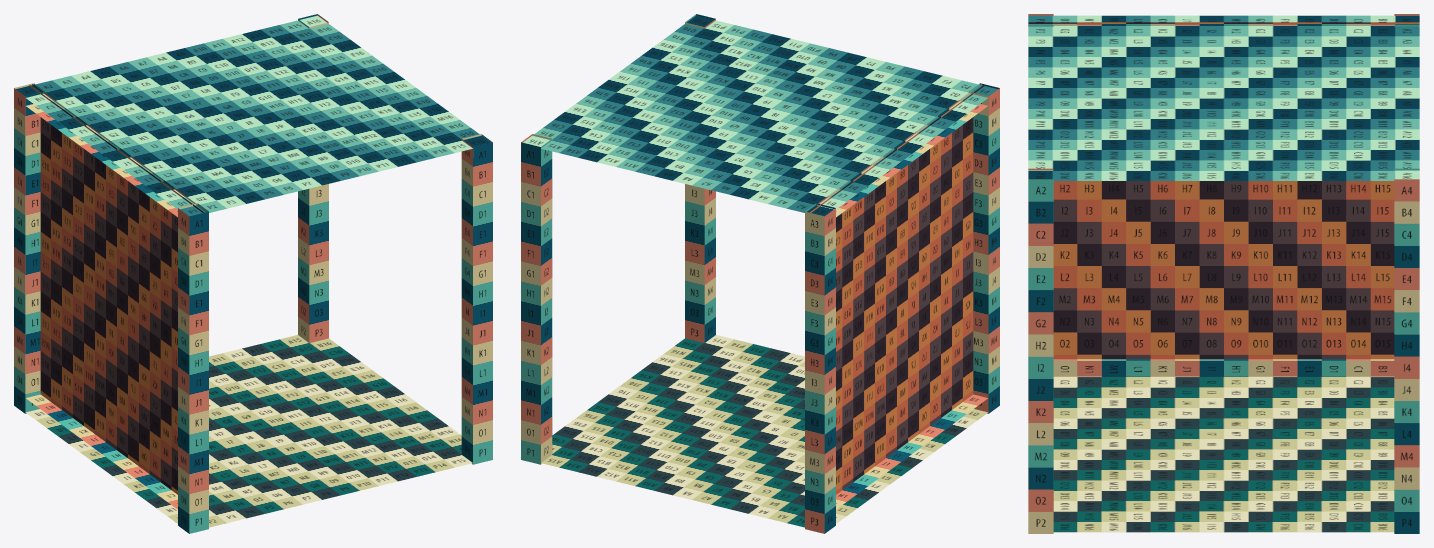
The model's file is Cor_3.fbx.
3 renders of one model, left to right at view 1: azimuth 30°, elevation 25°; view 2: azimuth 150°, elevation 25°; view 3: azimuth 270°, elevation 25°, orthographic. The views are drawn at different scales.
Parts seen in each view (by area): view 1: Cor_3_Ceiling, Cor_3_Walls, Cor_3_Floor, Cor_3_PL_Wall, Cor_3_PL_FL, Cor_3_PL_CL; view 2: Cor_3_Ceiling, Cor_3_Walls, Cor_3_Floor, Cor_3_PL_Wall, Cor_3_PL_FL, Cor_3_PL_CL; view 3: Cor_3_Ceiling, Cor_3_Walls, Cor_3_Floor, Cor_3_PL_Wall, Cor_3_PL_FL, Cor_3_PL_CL.
Boxes of the visible parts, x1=… form: Cor_3_Ceiling: x1=16, y1=15, x2=490, y2=216; Cor_3_Walls: x1=29, y1=84, x2=203, y2=494; Cor_3_Floor: x1=26, y1=335, x2=472, y2=527; Cor_3_PL_Wall: x1=14, y1=14, x2=492, y2=533; Cor_3_PL_FL: x1=26, y1=394, x2=177, y2=509; Cor_3_PL_CL: x1=26, y1=84, x2=206, y2=217; Cor_3_Ceiling: x1=523, y1=15, x2=997, y2=216; Cor_3_Walls: x1=810, y1=84, x2=984, y2=494; Cor_3_Floor: x1=541, y1=335, x2=987, y2=527; Cor_3_PL_Wall: x1=521, y1=14, x2=999, y2=533; Cor_3_PL_FL: x1=836, y1=394, x2=987, y2=509; Cor_3_PL_CL: x1=807, y1=84, x2=987, y2=217; Cor_3_Ceiling: x1=1028, y1=15, x2=1419, y2=180; Cor_3_Walls: x1=1028, y1=22, x2=1419, y2=359; Cor_3_Floor: x1=1053, y1=376, x2=1394, y2=532; Cor_3_PL_Wall: x1=1028, y1=14, x2=1419, y2=533; Cor_3_PL_FL: x1=1053, y1=359, x2=1394, y2=376; Cor_3_PL_CL: x1=1028, y1=24, x2=1419, y2=25.
Size of the model in its own units: 200 by 200 by 200.
